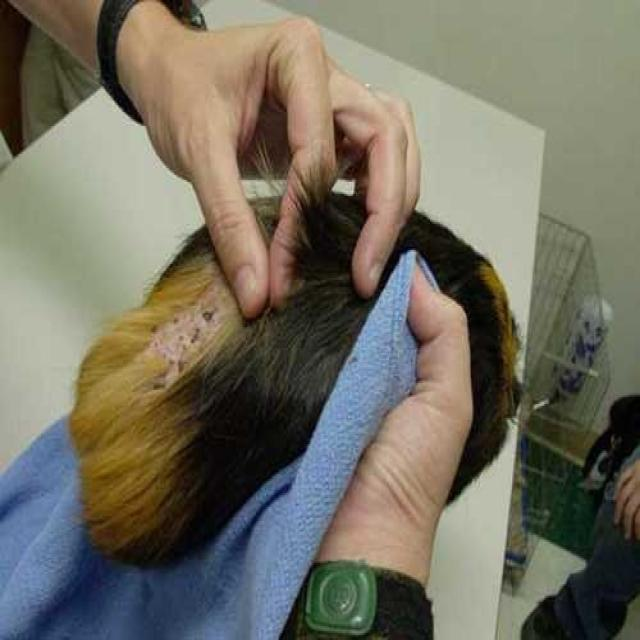guinea pig: (72, 181, 522, 569)
